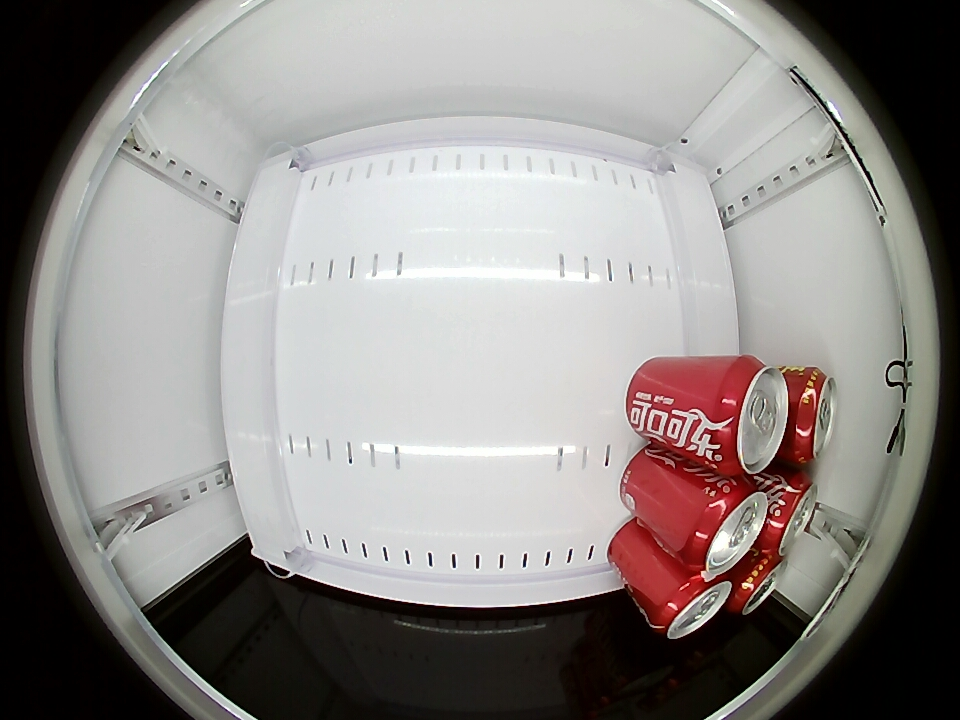kele: (703, 356, 789, 475), (683, 478, 769, 575), (650, 571, 732, 639), (760, 472, 819, 556)
wanglaoji-c: (785, 366, 837, 462), (731, 553, 788, 615)
